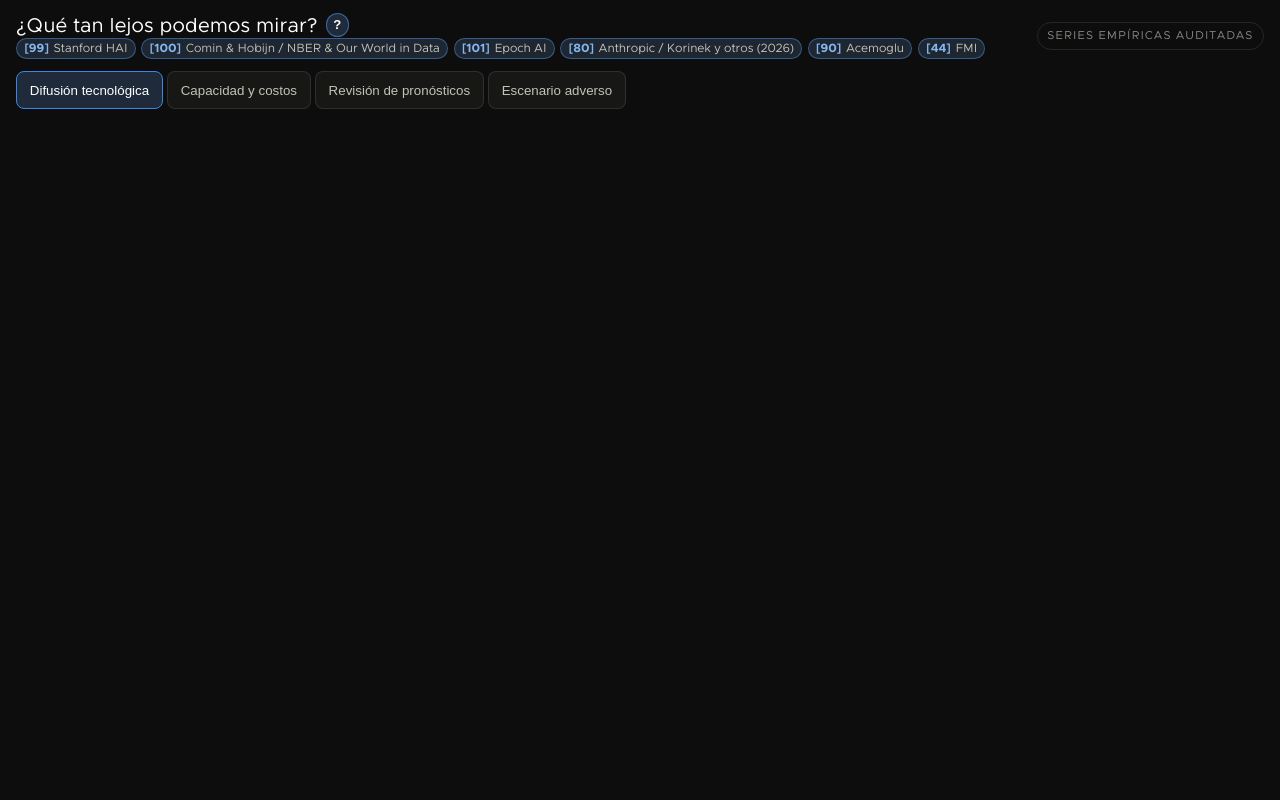
Scenario: ForecastUncertaintyStep › switches to Revisión de pronósticos and displays forecast revision delta
The image size is (1280, 800).
Click the button "Revisión de pronósticos" at coordinates (399, 90), box [315, 71, 484, 109]
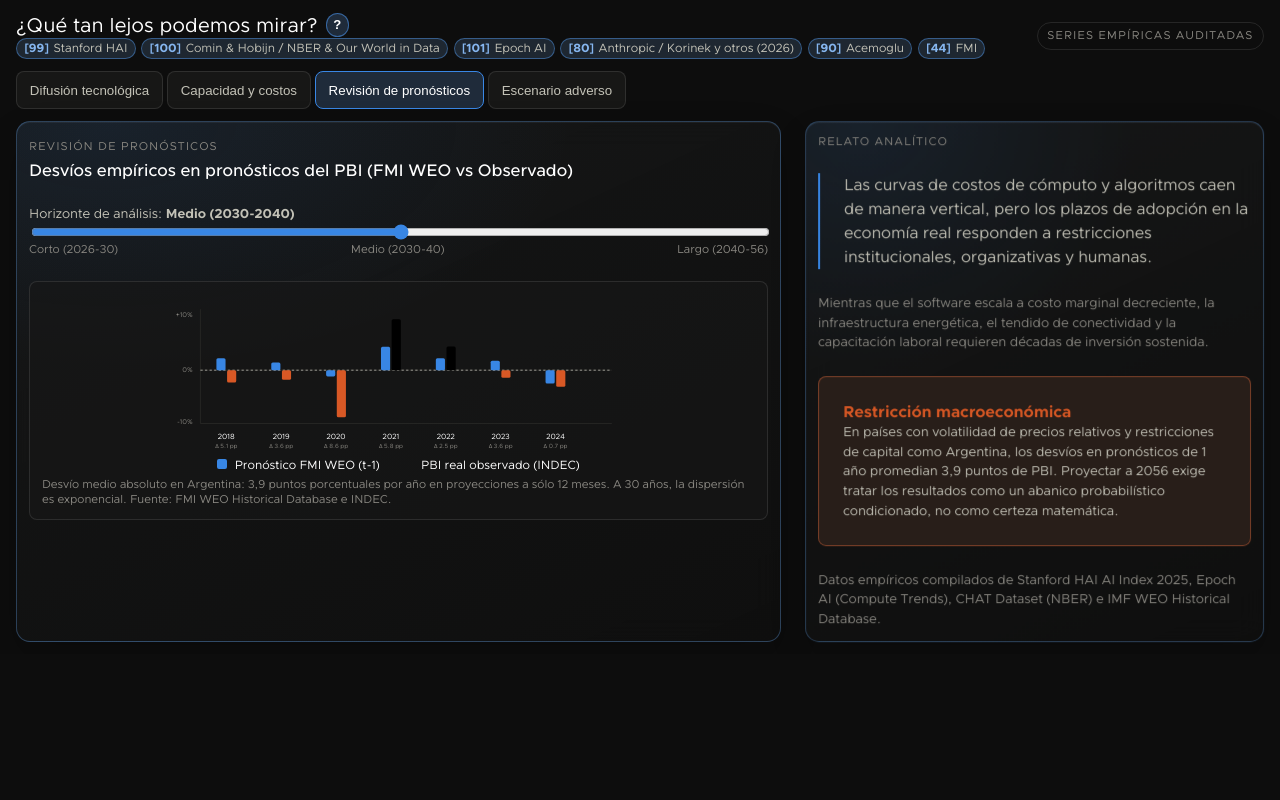
Now the heading "Desvíos empíricos en pronósticos del PBI" is shown, box [29, 159, 573, 181]
Now the text "Pronóstico FMI WEO (t-1)" is shown, box [217, 457, 380, 473]
Now the text "PBI real observado (INDEC)" is shown, box [404, 457, 580, 473]
